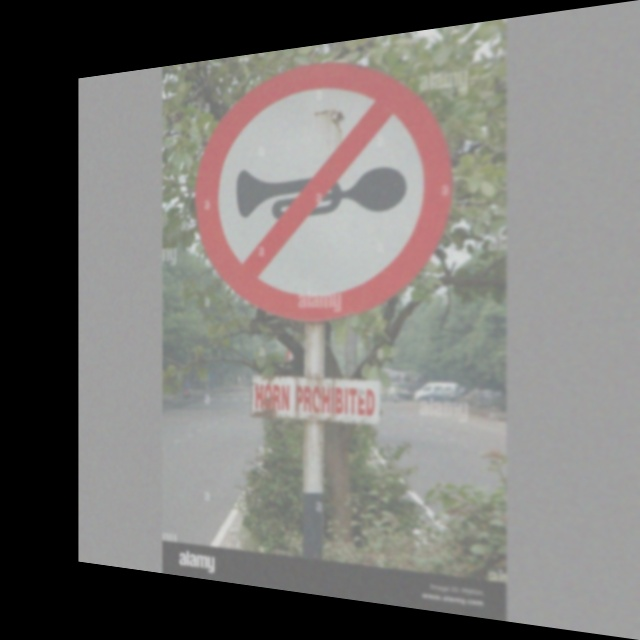Horn_Prohibited: (202, 50, 451, 315)
